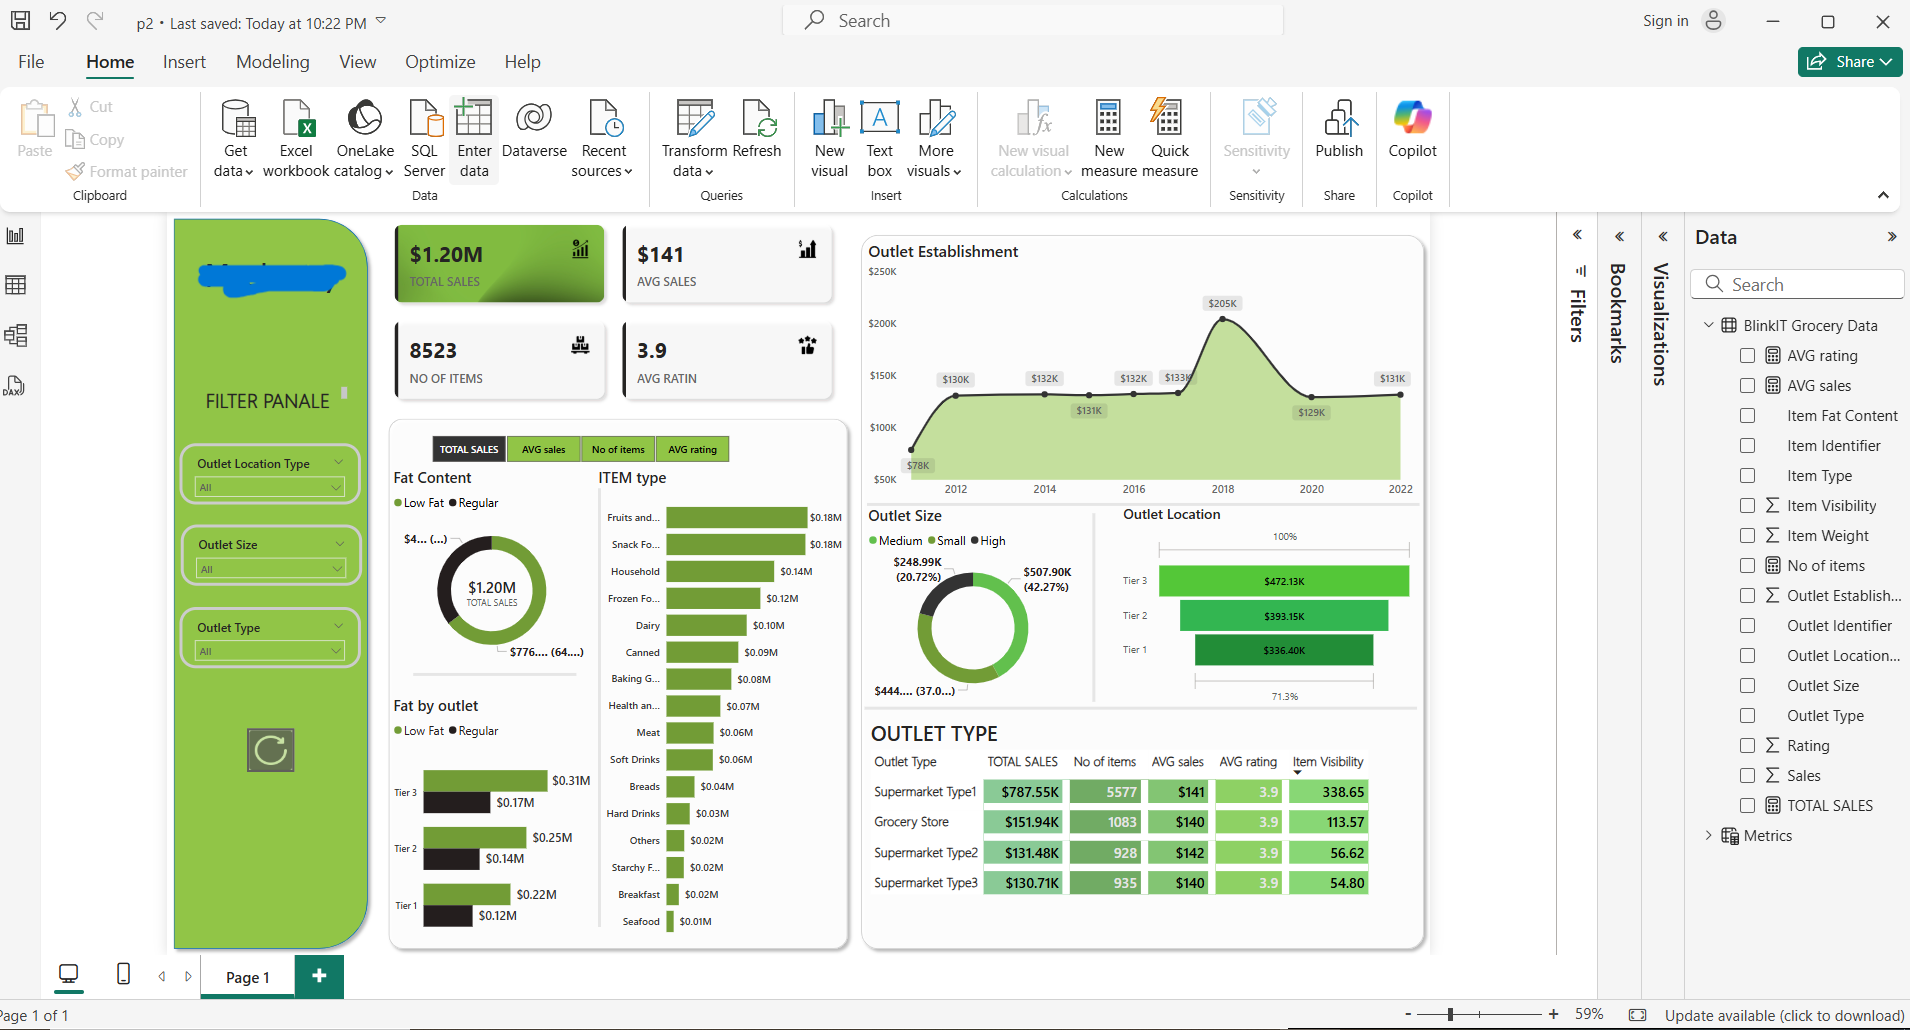

Layout of this report page (visuals, bound fields, positions):
{"tool":"powerbi","page":{"name":"Page 1","canvas":[1700,1000],"ordinal":0},"visuals":[{"type":"shape","box":[0,0,279.1,1000.3],"z":0},{"type":"textbox","box":[21.9,53.8,238.7,63.9],"z":1000},{"type":"cardVisual","fields":{"Data":["BlinkIT Grocery Data.TOTAL SALES","BlinkIT Grocery Data.AVG sales","BlinkIT Grocery Data.No of items","BlinkIT Grocery Data.AVG rating"]},"box":[289.2,0,623.7,269],"z":2000},{"type":"shape","box":[289.2,269,635.5,731.3],"z":3000},{"type":"donutChart","title":"Fat Content","fields":{"Y":["BlinkIT Grocery Data.TOTAL SALES"],"Category":["BlinkIT Grocery Data.Item Fat Content"]},"box":[299.3,343,275.7,274],"z":4000},{"type":"slicer","fields":{"Values":["Metrics.Metrics"]},"box":[331.2,294.2,448.9,48.8],"z":5000},{"type":"cardVisual","fields":{"Data":["BlinkIT Grocery Data.TOTAL SALES"]},"box":[371.6,470.7,131.1,82.4],"z":6000},{"type":"clusteredBarChart","title":"Fat by outlet","fields":{"Y":["BlinkIT Grocery Data.TOTAL SALES"],"Series":["BlinkIT Grocery Data.Item Fat Content"],"Category":["BlinkIT Grocery Data.Outlet Location Type"]},"box":[299.3,649,275.7,351.4],"z":7000},{"type":"shape","box":[331.2,595.2,220.2,53.8],"z":8000},{"type":"shape","box":[575,371.6,13.4,590.1],"z":9000},{"type":"barChart","title":"ITEM type","fields":{"Y":["BlinkIT Grocery Data.TOTAL SALES"],"Category":["BlinkIT Grocery Data.Item Type"]},"box":[575,343,337.9,645.6],"z":10000},{"type":"shape","box":[924.7,21.9,775.1,978.5],"z":11000},{"type":"lineChart","title":"Outlet Establishment","fields":{"Y":["BlinkIT Grocery Data.TOTAL SALES"],"Category":["BlinkIT Grocery Data.Outlet Establishment Year"]},"box":[938.1,37,743.1,356.4],"z":12000},{"type":"donutChart","title":"Outlet Size","fields":{"Y":["BlinkIT Grocery Data.TOTAL SALES"],"Category":["BlinkIT Grocery Data.Outlet Size"]},"box":[938.1,393.4,292.5,274],"z":13000},{"type":"shape","box":[941.5,366.5,743.1,53.8],"z":14000},{"type":"shape","box":[1230.7,405.2,31.9,253.9],"z":15000},{"type":"funnel","title":"Outlet Location","fields":{"Y":["BlinkIT Grocery Data.TOTAL SALES"],"Category":["BlinkIT Grocery Data.Outlet Location Type"]},"box":[1281.1,393.4,400.1,274],"z":16000},{"type":"shape","box":[938.1,640.6,743.1,53.8],"z":17000},{"type":"pivotTable","title":"OUTLET TYPE","fields":{"Rows":["BlinkIT Grocery Data.Outlet Type"],"Values":["BlinkIT Grocery Data.TOTAL SALES","BlinkIT Grocery Data.No of items","BlinkIT Grocery Data.AVG sales","BlinkIT Grocery Data.AVG rating","BlinkIT Grocery Data.Item Visibility"]},"box":[941.5,680.9,743.1,307.7],"z":18000},{"type":"slicer","fields":{"Values":["BlinkIT Grocery Data.Outlet Location Type"]},"box":[16.8,311,243.8,82.4],"z":19000},{"type":"slicer","fields":{"Values":["BlinkIT Grocery Data.Outlet Size"]},"box":[18.5,420.3,243.8,82.4],"z":20000},{"type":"slicer","fields":{"Values":["BlinkIT Grocery Data.Outlet Type"]},"box":[16.8,531.3,243.8,82.4],"z":21000},{"type":"textbox","box":[31.9,215.2,215.2,79],"z":22000},{"type":"actionButton","box":[107.6,694.4,63.9,58.8],"z":23000}]}

Visuals, with their boxes on the page's 1700x1000 design canvas (x1, y1, x2, y2). These are canvas units, not pixel positions in the 1910x1030 screenshot, which may show the page scaled, cropped or inside an application window:
shape: {"x1": 0, "y1": 0, "x2": 279, "y2": 1000}
textbox: {"x1": 22, "y1": 54, "x2": 261, "y2": 118}
cardVisual - BlinkIT Grocery Data.TOTAL SALES x BlinkIT Grocery Data.AVG sales: {"x1": 289, "y1": 0, "x2": 913, "y2": 269}
shape: {"x1": 289, "y1": 269, "x2": 925, "y2": 1000}
"Fat Content" donutChart: {"x1": 299, "y1": 343, "x2": 575, "y2": 617}
slicer - Metrics.Metrics: {"x1": 331, "y1": 294, "x2": 780, "y2": 343}
cardVisual - BlinkIT Grocery Data.TOTAL SALES: {"x1": 372, "y1": 471, "x2": 503, "y2": 553}
"Fat by outlet" clusteredBarChart: {"x1": 299, "y1": 649, "x2": 575, "y2": 1000}
shape: {"x1": 331, "y1": 595, "x2": 551, "y2": 649}
shape: {"x1": 575, "y1": 372, "x2": 588, "y2": 962}
"ITEM type" barChart: {"x1": 575, "y1": 343, "x2": 913, "y2": 989}
shape: {"x1": 925, "y1": 22, "x2": 1700, "y2": 1000}
"Outlet Establishment" lineChart: {"x1": 938, "y1": 37, "x2": 1681, "y2": 393}
"Outlet Size" donutChart: {"x1": 938, "y1": 393, "x2": 1231, "y2": 667}
shape: {"x1": 942, "y1": 366, "x2": 1685, "y2": 420}
shape: {"x1": 1231, "y1": 405, "x2": 1263, "y2": 659}
"Outlet Location" funnel: {"x1": 1281, "y1": 393, "x2": 1681, "y2": 667}
shape: {"x1": 938, "y1": 641, "x2": 1681, "y2": 694}
"OUTLET TYPE" pivotTable: {"x1": 942, "y1": 681, "x2": 1685, "y2": 989}
slicer - BlinkIT Grocery Data.Outlet Location Type: {"x1": 17, "y1": 311, "x2": 261, "y2": 393}
slicer - BlinkIT Grocery Data.Outlet Size: {"x1": 18, "y1": 420, "x2": 262, "y2": 503}
slicer - BlinkIT Grocery Data.Outlet Type: {"x1": 17, "y1": 531, "x2": 261, "y2": 614}
textbox: {"x1": 32, "y1": 215, "x2": 247, "y2": 294}
actionButton: {"x1": 108, "y1": 694, "x2": 172, "y2": 753}
